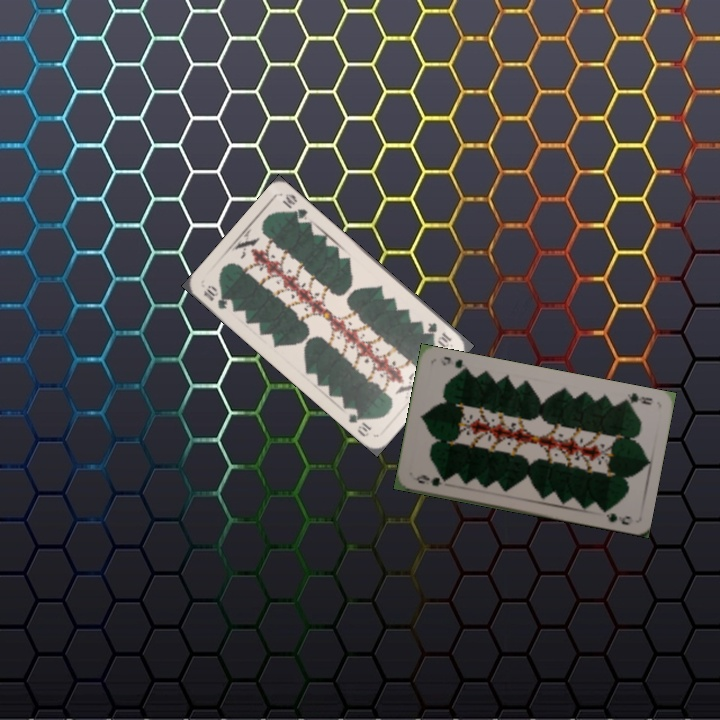G10: (423, 318, 454, 350), (199, 281, 231, 312)
G9: (412, 470, 451, 489), (617, 389, 655, 407)
